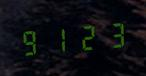nine: (18, 24, 44, 58)
one: (45, 22, 71, 56)
three: (99, 17, 125, 51)
two: (72, 20, 98, 53)
